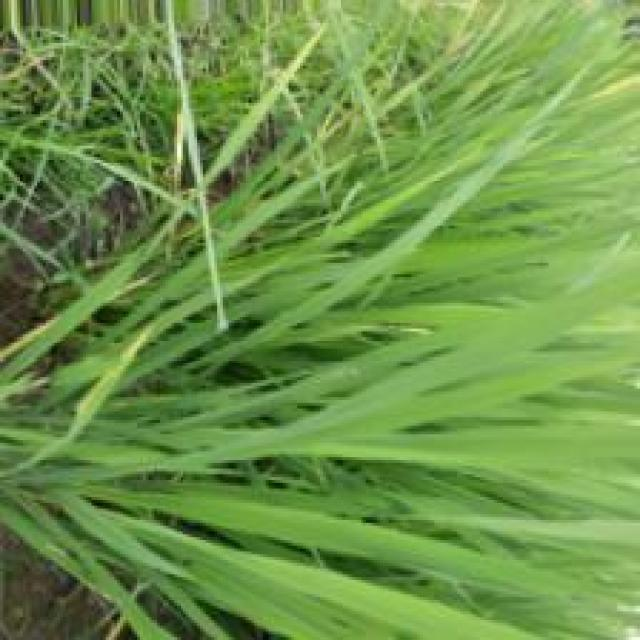HealthyLeaf: (13, 245, 640, 612)
